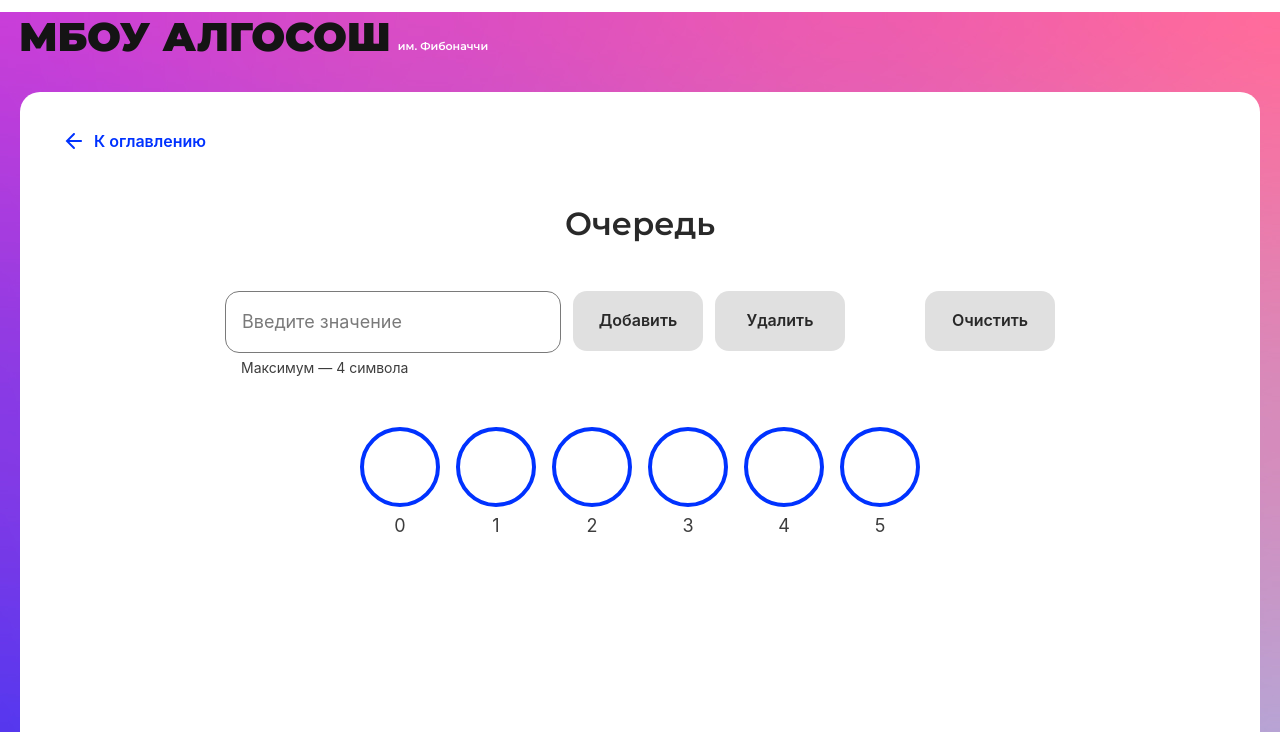
Тесты страницы очереди › Проверка состояния кнопки › Кнопка верно меняет значение атрибута disabled
Expected: the button "Добавить" is disabled, [573,291,703,351]
Type "123" into the field with placeholder "Введите значение" at (393, 322), box [225,291,561,353]
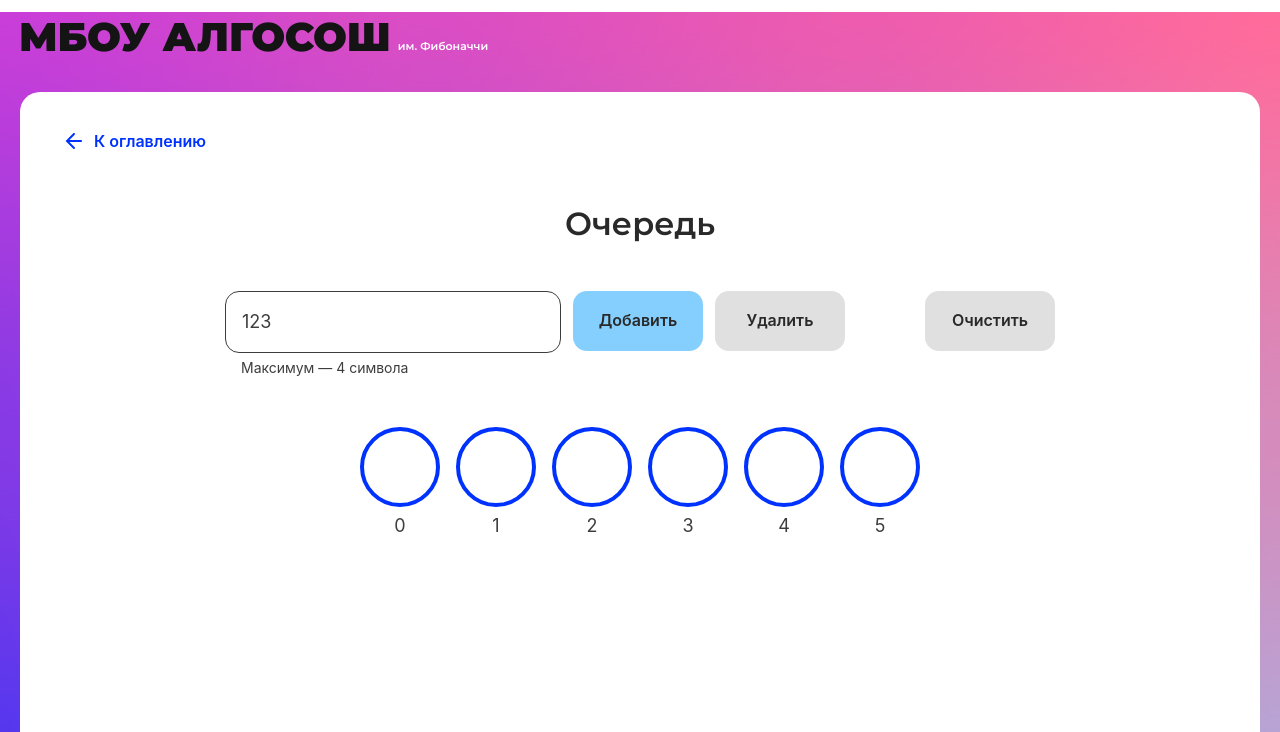
Expected: the text "Добавить" is enabled
Clear the field at (393, 322), box [225,291,561,353]
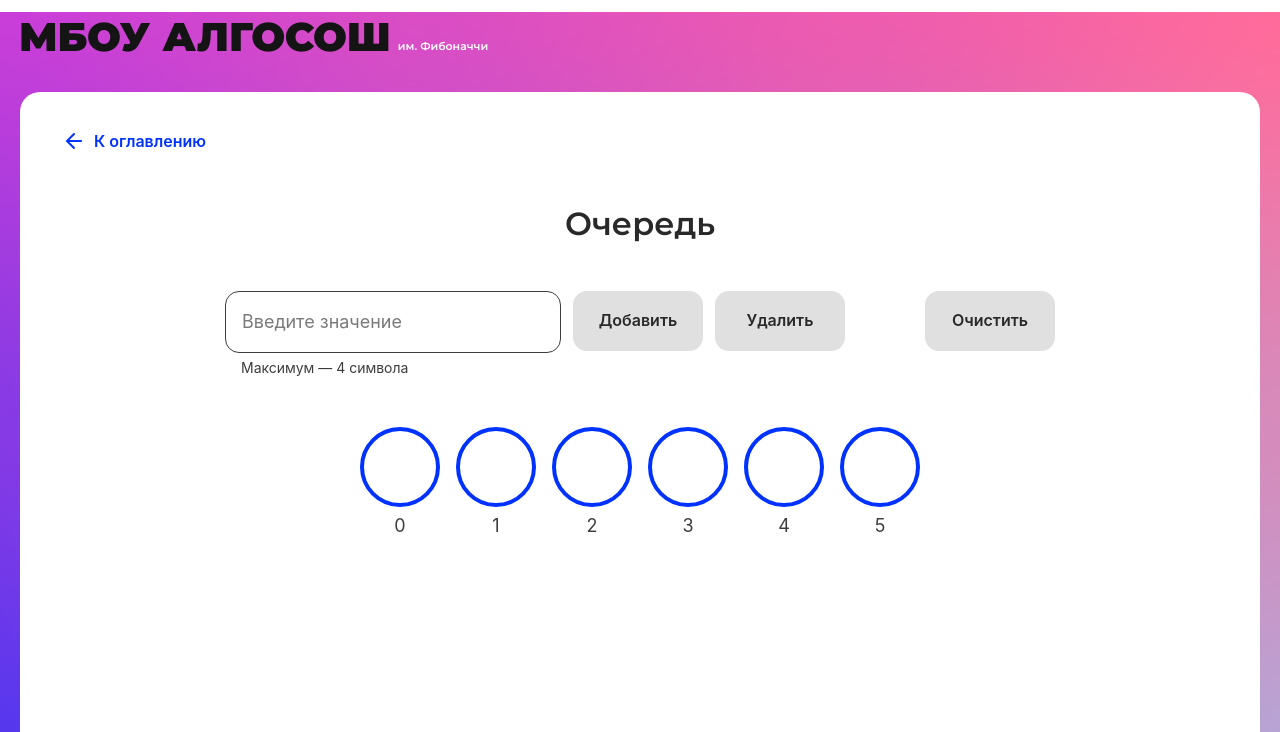
Expected: the button "Добавить" is disabled, [573,291,703,351]
